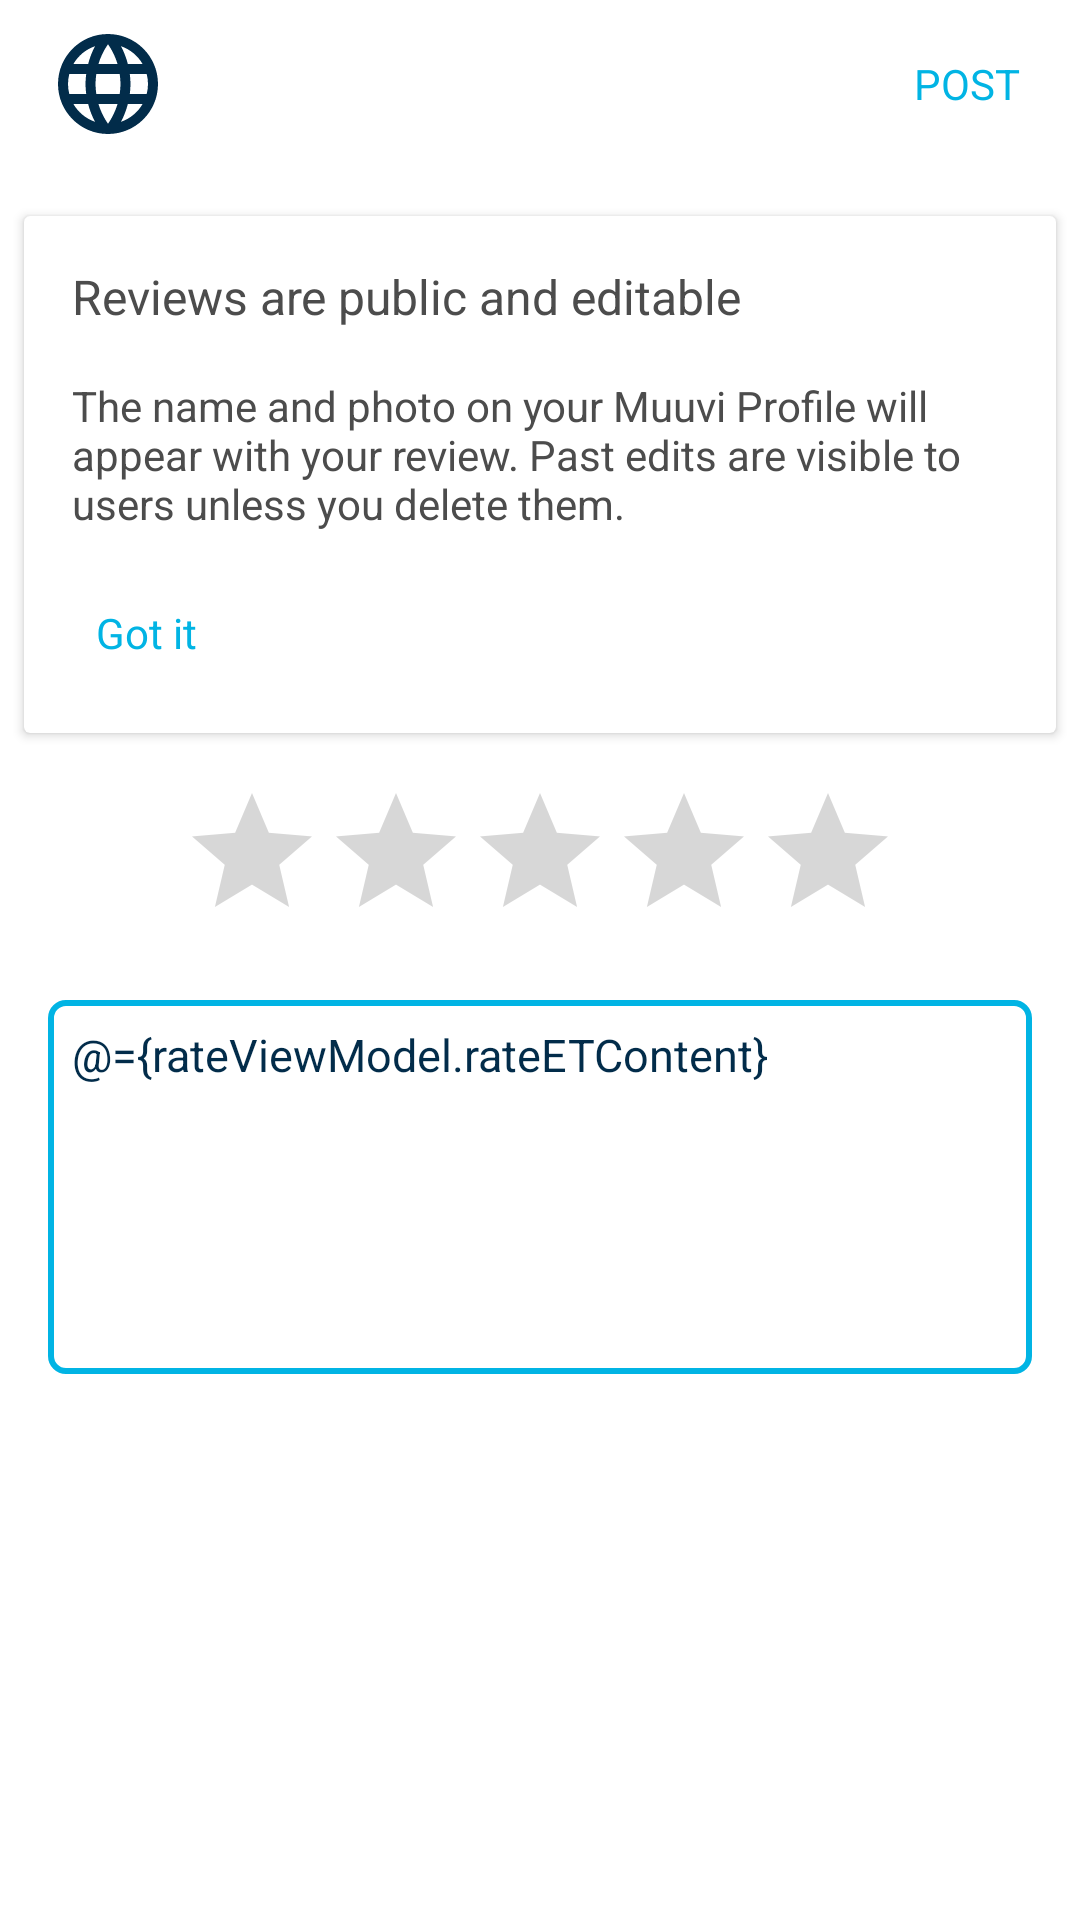

Icons on this 1080x1920 Android screen, each with the point to tap as [x,y]:
language: [108,84]
